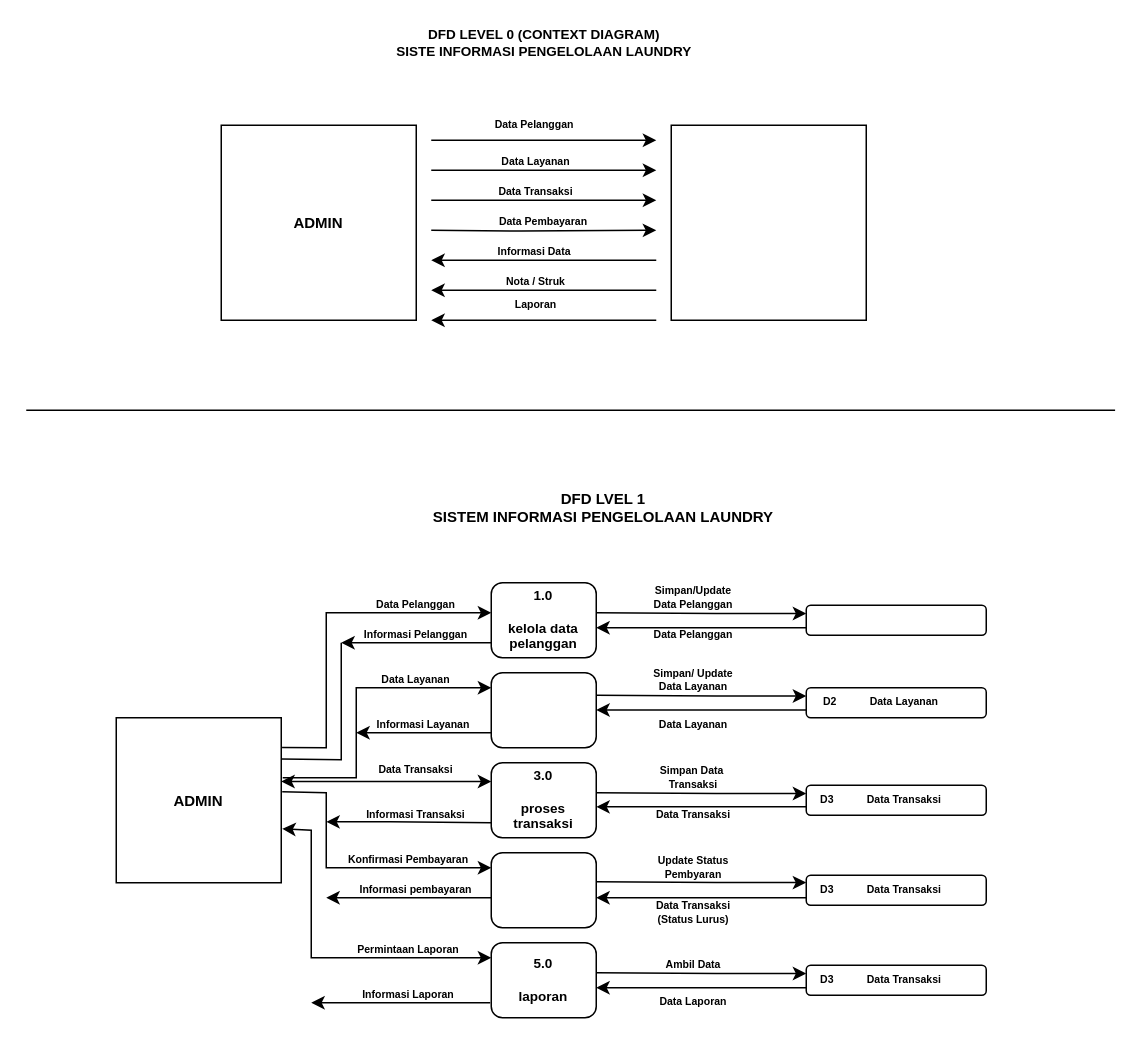
The diagram is 1143 pixels wide and 1044 high, and some of its shapes have lost their labels. Each missing label, with the centre of its shape:
2.0 kelola data layanan: (543,709)
4.0 proses pembayaran: (543,889)
D1 Data Pelanggan: (895,619)
SISTEM INFORMASI PENGELOLAAN LAUNDRY: (768,222)
